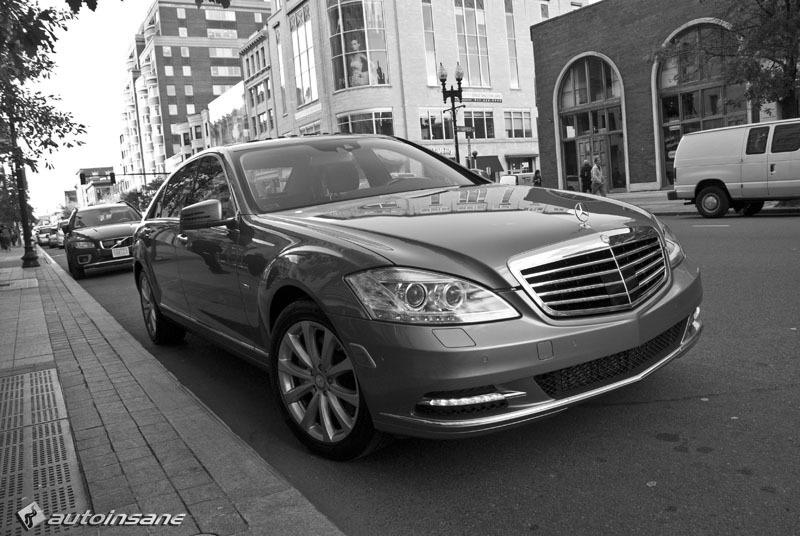car: (130, 133, 710, 455)
